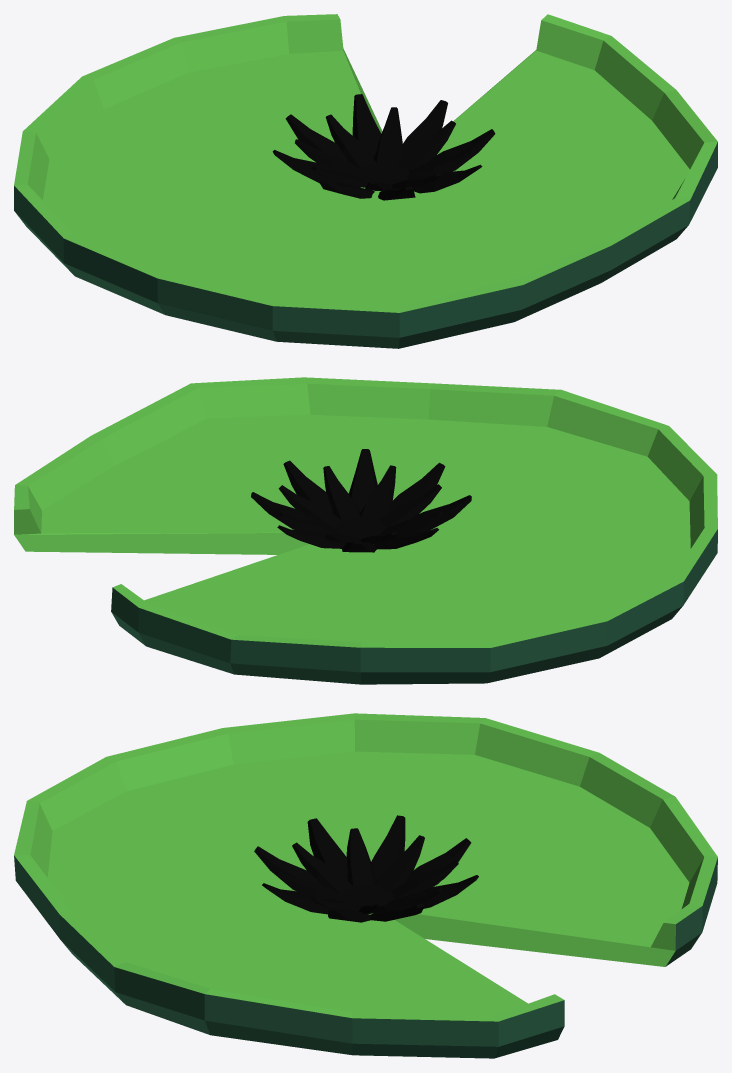
The model's file is Water Lily 04.fbx.
3 renders of one model, top to bottom at view 1: azimuth 30°, elevation 25°; view 2: azimuth 150°, elevation 25°; view 3: azimuth 270°, elevation 25°, orthographic. The views are drawn at different scales.
Visible parts, largest first — view 1: Water Lily 04; view 2: Water Lily 04; view 3: Water Lily 04.
Boxes of the visible parts, left/top/right/bottom form: Water Lily 04: left=14, top=14, right=717, bottom=348; Water Lily 04: left=14, top=377, right=717, bottom=684; Water Lily 04: left=14, top=713, right=717, bottom=1058.
Size of the model in its own units: 128 by 10.91 by 123.
